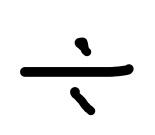div: (20, 37, 134, 115)
